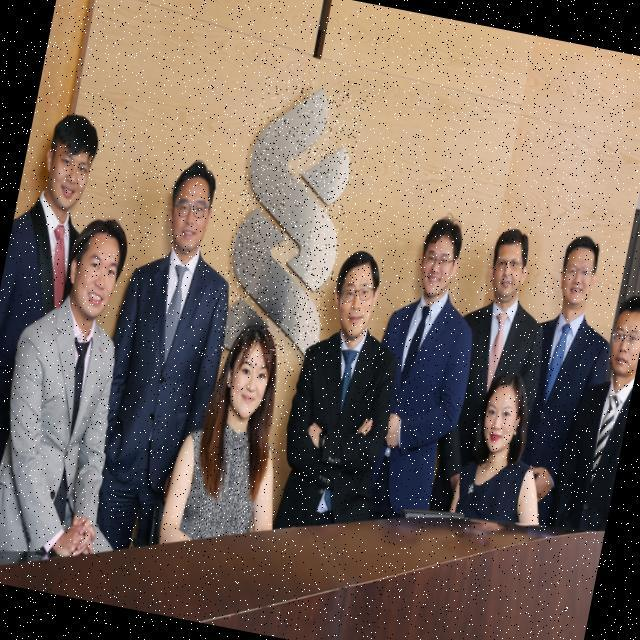Standard Chartered: (209, 75, 369, 377)
